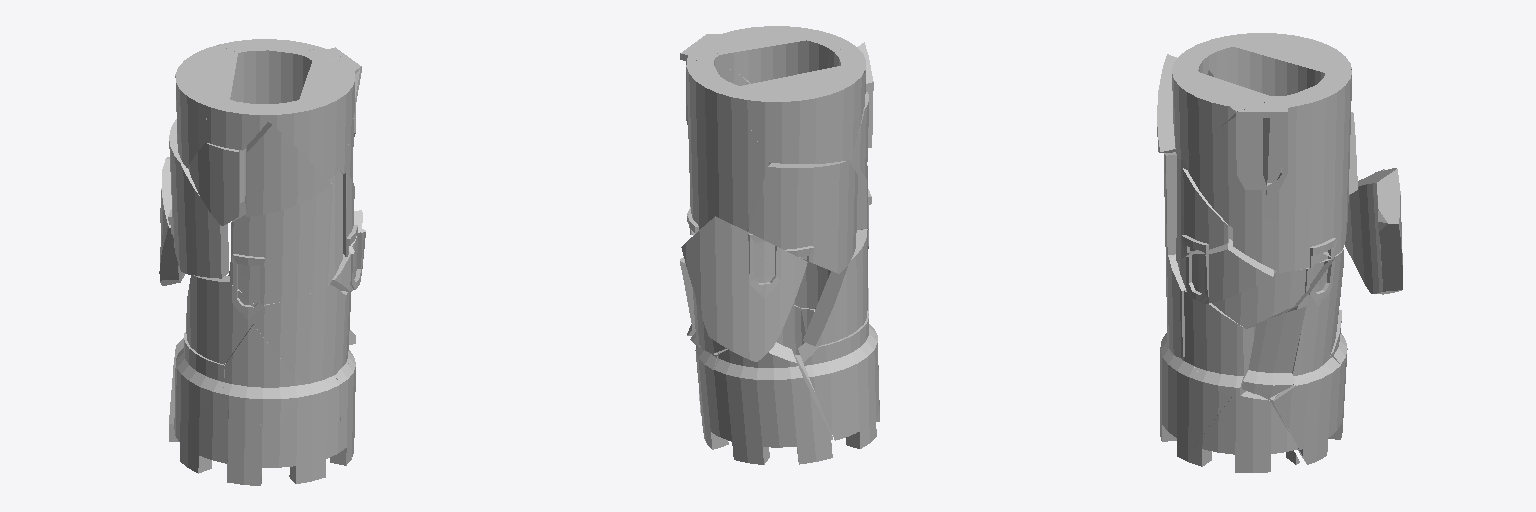
The model's file is destruction_tower_000023.obj.
3 renders of one model, left to right at view 1: azimuth 30°, elevation 25°; view 2: azimuth 150°, elevation 25°; view 3: azimuth 270°, elevation 25°, orthographic.
Parts seen in each view (by area): view 1: tower.001_cell.024_Mesh.024, tower.001_cell.028_Mesh.028, tower.001_cell.021_Mesh.021, tower.001_cell.006_Mesh.006, tower.001_cell.011_Mesh.011, tower.001_cell.002_Mesh.002, tower.001_cell.003_Mesh.003, tower.001_cell.013_Mesh.013, tower.001_cell.009_Mesh.009, tower.001_cell.015_Mesh.015, tower.001_cell.017_Mesh.017, tower.001_cell.014_Mesh.014 (+9 smaller); view 2: tower.001_cell.025_Mesh.025, tower.001_cell.007_Mesh.007, tower.001_cell.017_Mesh.017, tower.001_cell.015_Mesh.015, tower.001_cell.003_Mesh.003, tower.001_cell.028_Mesh.028, tower.001_cell.005_Mesh.005, tower.001_cell.009_Mesh.009, tower.001_cell.029_Mesh.029, tower.001_cell.006_Mesh.006, tower.001_cell.021_Mesh.021, tower.001_cell.014_Mesh.014 (+6 smaller); view 3: tower.001_cell.017_Mesh.017, tower.001_cell.020_Mesh.020, tower.001_cell.025_Mesh.025, tower.001_cell.015_Mesh.015, tower.001_cell.028_Mesh.028, tower.001_cell.030_Mesh.030, tower.001_cell_Mesh, tower.001_cell.029_Mesh.029, tower.001_cell.012_Mesh.012, tower.001_cell.010_Mesh.010, tower.001_cell.016_Mesh.016, tower.001_cell.023_Mesh.023 (+11 smaller).
Boxes of the visible parts, <box> form: tower.001_cell.024_Mesh.024: <box>230,183,331,305</box>; tower.001_cell.028_Mesh.028: <box>261,60,361,179</box>; tower.001_cell.021_Mesh.021: <box>253,284,346,386</box>; tower.001_cell.006_Mesh.006: <box>179,391,270,485</box>; tower.001_cell.011_Mesh.011: <box>270,378,340,483</box>; tower.001_cell.002_Mesh.002: <box>245,122,330,216</box>; tower.001_cell.003_Mesh.003: <box>168,119,228,278</box>; tower.001_cell.013_Mesh.013: <box>223,324,303,433</box>; tower.001_cell.009_Mesh.009: <box>186,275,253,364</box>; tower.001_cell.015_Mesh.015: <box>175,45,237,167</box>; tower.001_cell.017_Mesh.017: <box>218,39,321,202</box>; tower.001_cell.014_Mesh.014: <box>188,143,239,225</box>; tower.001_cell.025_Mesh.025: <box>681,216,807,361</box>; tower.001_cell.007_Mesh.007: <box>714,342,832,464</box>; tower.001_cell.017_Mesh.017: <box>686,58,770,233</box>; tower.001_cell.015_Mesh.015: <box>735,66,863,163</box>; tower.001_cell.003_Mesh.003: <box>748,161,857,273</box>; tower.001_cell.028_Mesh.028: <box>706,26,851,83</box>; tower.001_cell.005_Mesh.005: <box>798,315,877,440</box>; tower.001_cell.009_Mesh.009: <box>803,229,868,346</box>; tower.001_cell.029_Mesh.029: <box>695,345,725,449</box>; tower.001_cell.006_Mesh.006: <box>846,335,879,448</box>; tower.001_cell.021_Mesh.021: <box>793,258,830,308</box>; tower.001_cell.014_Mesh.014: <box>845,92,868,179</box>; tower.001_cell.017_Mesh.017: <box>1295,70,1351,258</box>; tower.001_cell.020_Mesh.020: <box>1185,105,1269,228</box>; tower.001_cell.025_Mesh.025: <box>1345,168,1402,294</box>; tower.001_cell.015_Mesh.015: <box>1233,33,1351,95</box>; tower.001_cell.028_Mesh.028: <box>1172,53,1271,160</box>; tower.001_cell.030_Mesh.030: <box>1187,391,1297,472</box>; tower.001_cell_Mesh: <box>1184,290,1253,396</box>; tower.001_cell.029_Mesh.029: <box>1273,355,1340,464</box>; tower.001_cell.012_Mesh.012: <box>1282,249,1343,385</box>; tower.001_cell.010_Mesh.010: <box>1178,238,1273,303</box>; tower.001_cell.016_Mesh.016: <box>1242,306,1306,397</box>; tower.001_cell.023_Mesh.023: <box>1170,357,1231,460</box>.
Size of the model in its own units: 46.66 by 96.95 by 58.43.